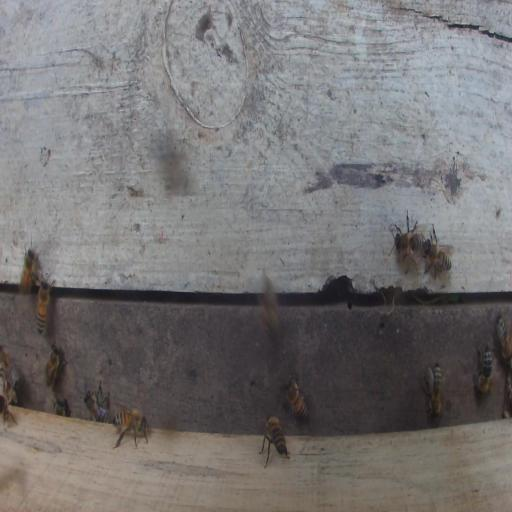bee: (389, 209, 427, 265), (259, 414, 290, 466), (423, 225, 452, 280), (280, 373, 310, 426), (112, 407, 149, 449), (259, 271, 280, 339), (421, 363, 444, 419), (473, 340, 494, 395), (36, 276, 53, 337), (83, 384, 110, 422), (19, 247, 39, 295), (496, 311, 511, 362), (45, 340, 60, 389), (1, 346, 19, 385), (1, 395, 17, 430), (482, 341, 493, 386), (52, 396, 71, 416)
